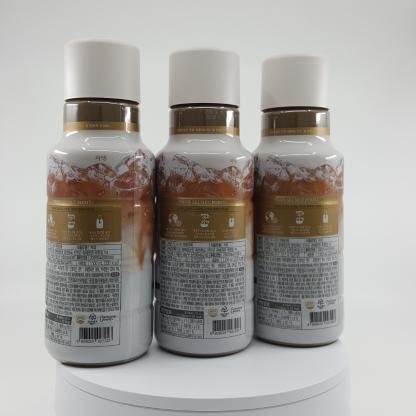----------1-1L: (44, 37, 155, 366), (154, 47, 254, 357), (250, 53, 345, 347)
